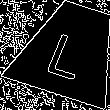L_N: (44, 21, 96, 79)
